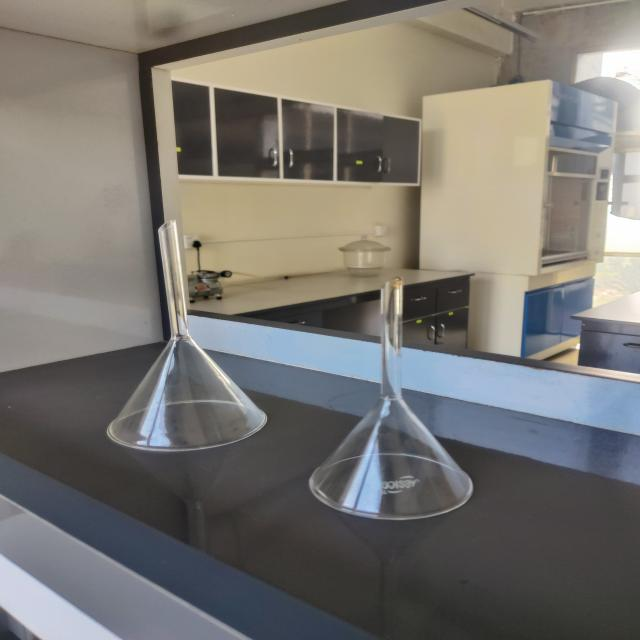Funnel: (80, 207, 296, 464), (301, 287, 499, 533)
